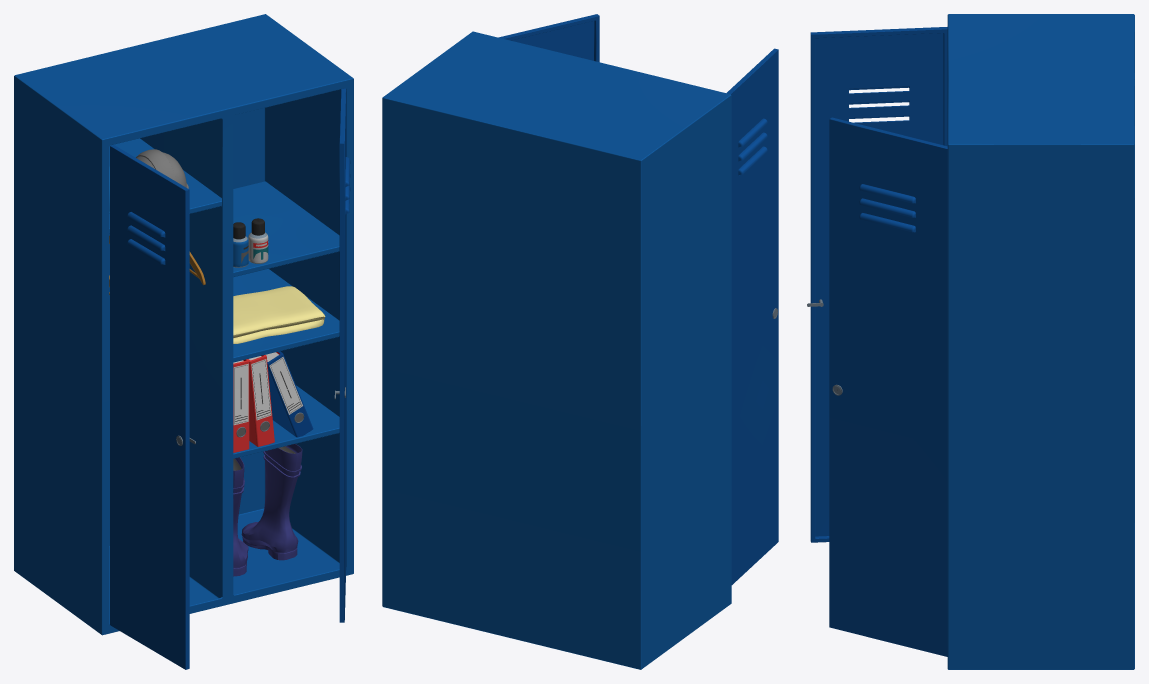
File: SM_Locker_OpenFixed_Pop_V01_Blue.fbx
3 renders of one model, left to right at view 1: azimuth 30°, elevation 25°; view 2: azimuth 150°, elevation 25°; view 3: azimuth 270°, elevation 25°, orthographic. The views are drawn at different scales.
Parts seen in each view (by area): view 1: SM_Locker_OpenFixed_Pop_V01_Blue; view 2: SM_Locker_OpenFixed_Pop_V01_Blue; view 3: SM_Locker_OpenFixed_Pop_V01_Blue.
Part boxes in pixels (x1,y1,x2,y2): SM_Locker_OpenFixed_Pop_V01_Blue: [14, 14, 353, 669]; SM_Locker_OpenFixed_Pop_V01_Blue: [382, 14, 778, 669]; SM_Locker_OpenFixed_Pop_V01_Blue: [807, 14, 1134, 669].
Bounding box in the file's own units: 115 × 215 × 122.
